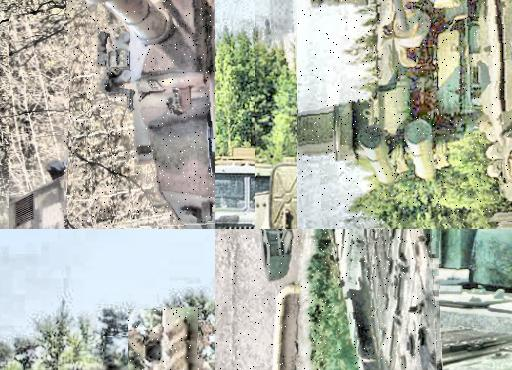tanks: (300, 1, 512, 200), (87, 1, 216, 228), (336, 230, 439, 370), (129, 308, 201, 370)
